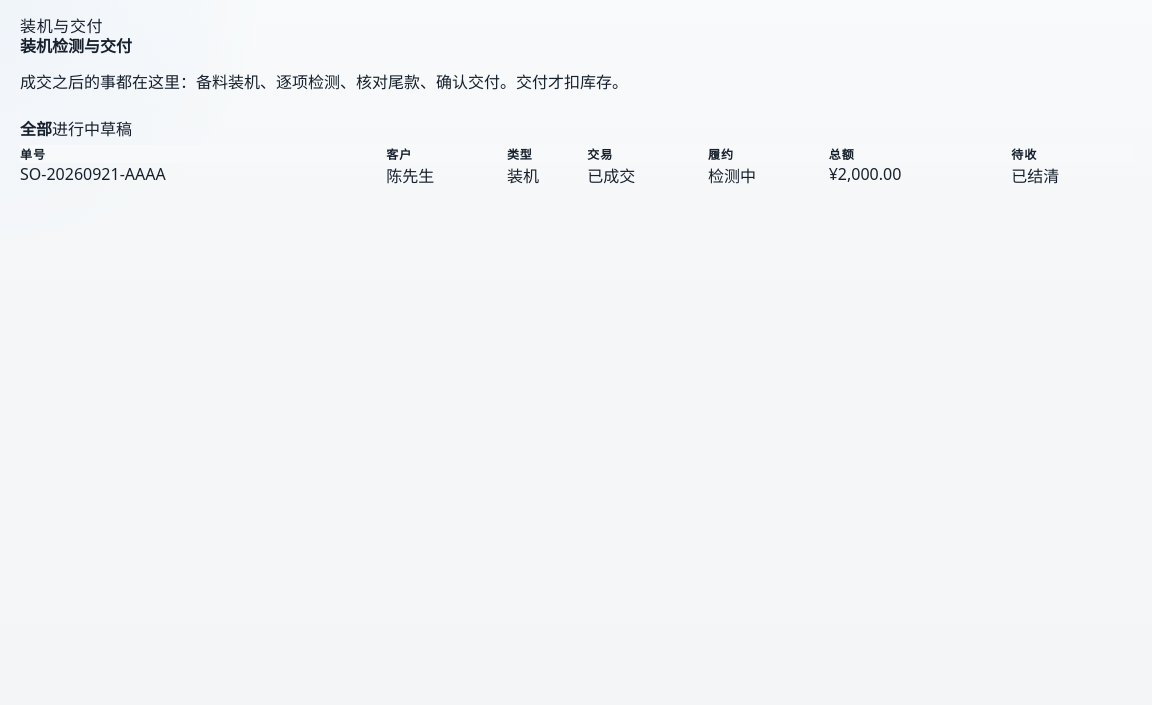
Test case: WorkbenchFulfillmentPage › 缺货与尾款未结清时对应闸门不亮，交付按钮保持禁用
What coordinates should you click on to do the following:
click the button "SO-20260921-AAAA"
I would click on:
 (93, 174)
Its box is [20,163,166,185].
(page scrolled)
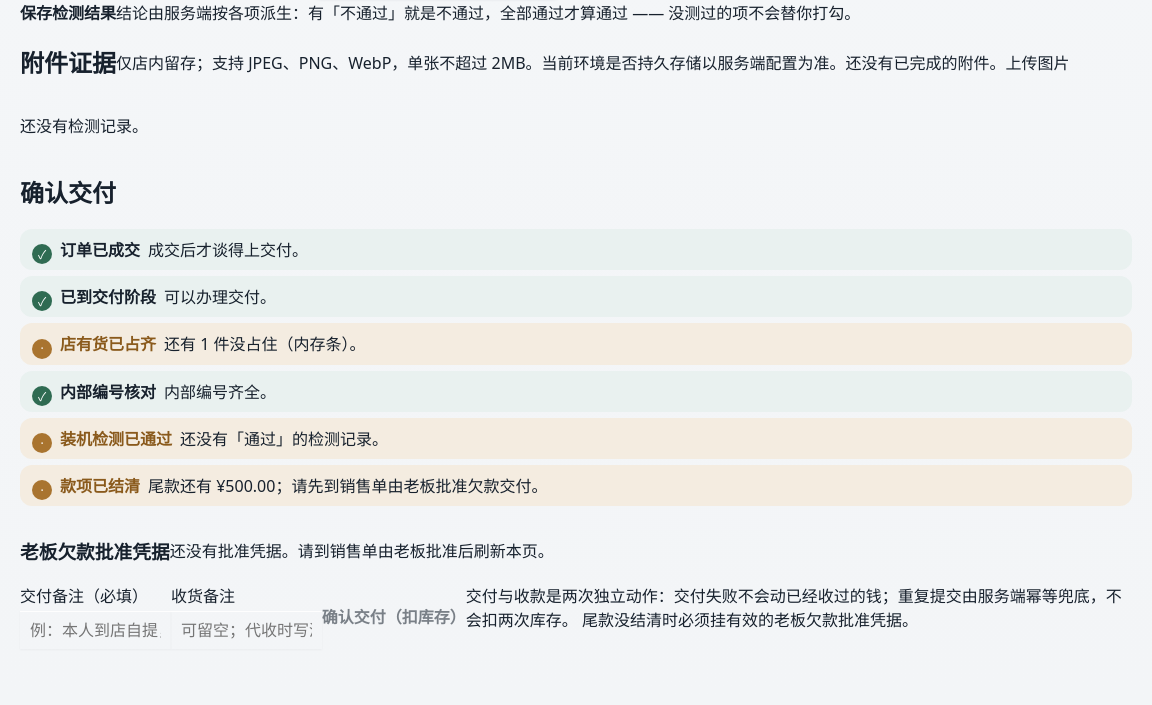
Check: the button "确认交付（扣库存）" is disabled, box [322,583,466,649]
Check: the text "尾款还有 ¥500.00；请先到销售单由老板批准欠款交付。" is shown, box [148,475,547,497]
